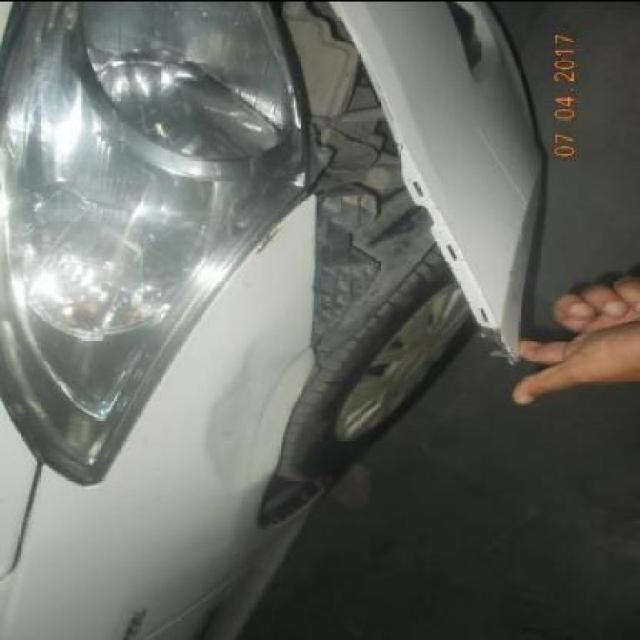damage: (270, 0, 513, 371), (202, 338, 311, 483), (249, 220, 285, 258)
